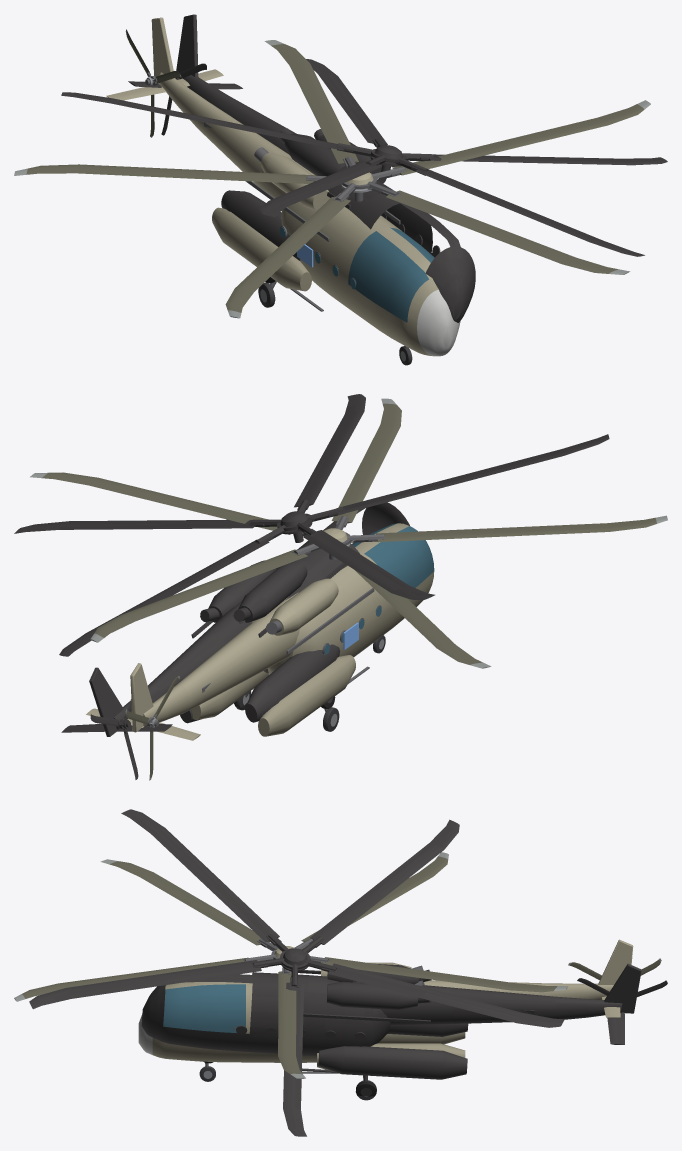
The model's file is helicopter__mi_8amtsh.glb.
3 renders of one model, top to bottom at view 1: azimuth 30°, elevation 25°; view 2: azimuth 150°, elevation 25°; view 3: azimuth 270°, elevation 25°, orthographic. The views are drawn at different scales.
Parts seen in each view (by area): view 1: Fuselage_Mesh, Wreck, Rotor_Main_Mesh, Engines_Mesh, Rotor_Tail_Mesh, Landing_Gear_Mesh; view 2: Wreck, Fuselage_Mesh, Rotor_Main_Mesh, Engines_Mesh, Landing_Gear_Mesh, Rotor_Tail_Mesh; view 3: Wreck, Fuselage_Mesh, Rotor_Main_Mesh.
Part boxes in pixels (box(x1,y1,x2,y2)): Fuselage_Mesh: box(106, 17, 460, 356); Wreck: box(61, 14, 667, 322); Rotor_Main_Mesh: box(14, 40, 650, 318); Engines_Mesh: box(254, 147, 330, 210); Rotor_Tail_Mesh: box(125, 29, 181, 137); Landing_Gear_Mesh: box(258, 281, 412, 365); Wreck: box(14, 394, 609, 779); Fuselage_Mesh: box(86, 523, 434, 740); Rotor_Main_Mesh: box(30, 398, 667, 668); Engines_Mesh: box(232, 578, 338, 635); Landing_Gear_Mesh: box(235, 635, 385, 731); Rotor_Tail_Mesh: box(125, 676, 179, 780); Wreck: box(29, 809, 667, 1136); Fuselage_Mesh: box(138, 939, 633, 1074); Rotor_Main_Mesh: box(14, 852, 568, 1078).
Size of what is drawn, in the model's own units: 20.24 by 7.88 by 24.01.
